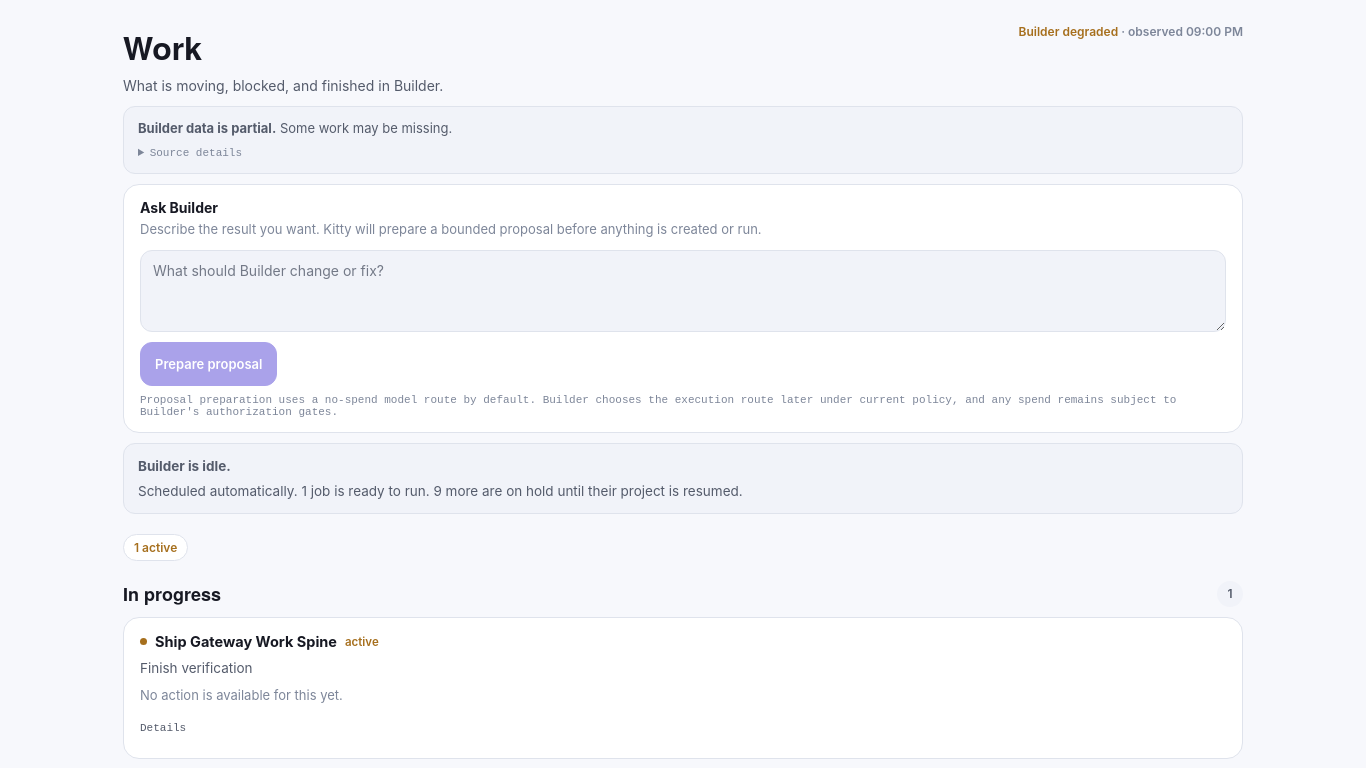
Test case: WorkView visual hierarchy › keeps the exact degraded source reason behind disclosure
The width and height of the screenshot is (1366, 768).
Expected: the text "Builder degraded" is shown, [1018, 24, 1118, 39]
Expected: the text "Builder data is partial. Some work may be missing." is shown, [138, 120, 452, 136]
Click the heading "Source details".
click(196, 152)  # box [150, 146, 242, 158]
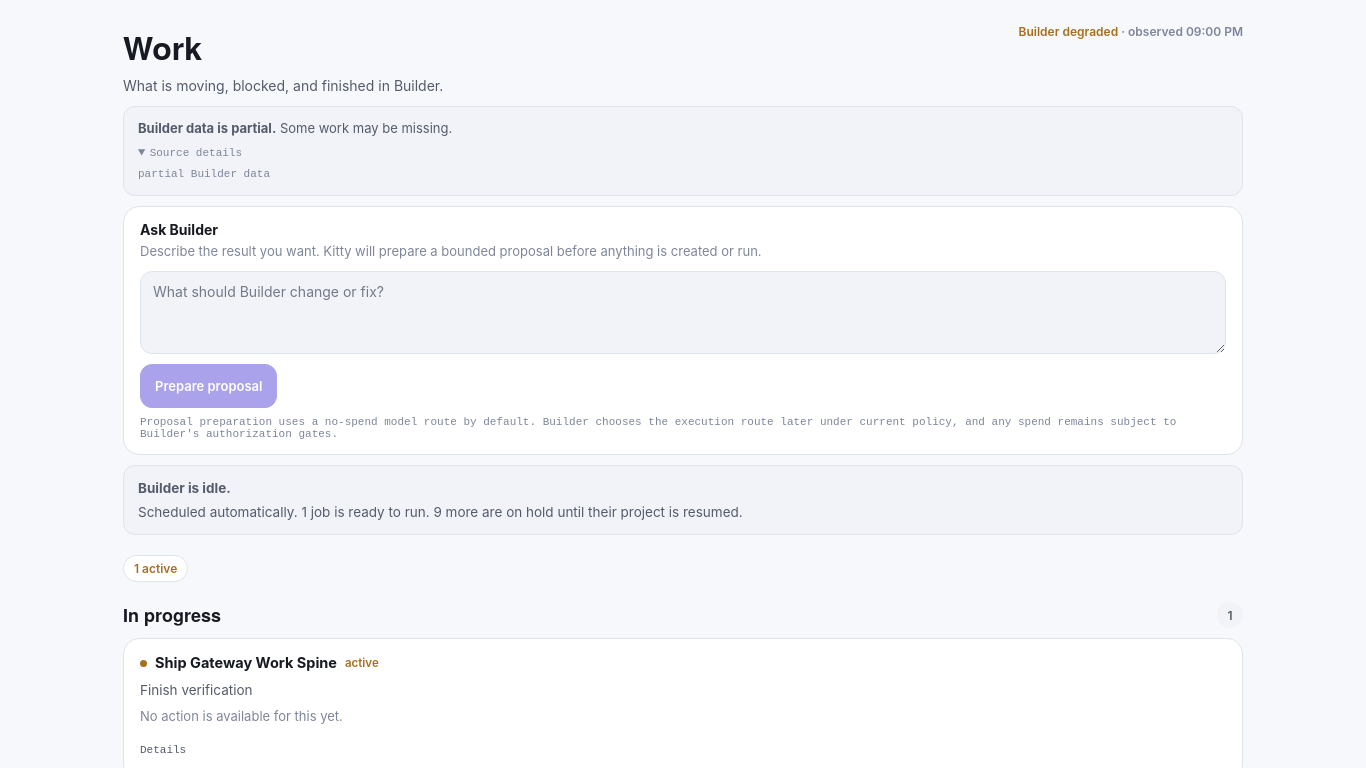
Now the text "partial Builder data" is shown, box [138, 168, 270, 180]
